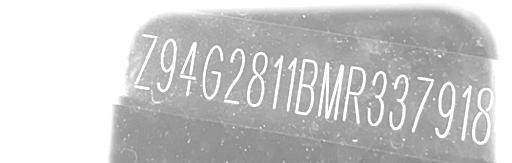letter: (316, 61, 344, 122), (132, 31, 158, 92), (408, 75, 434, 134), (470, 86, 494, 146), (341, 65, 365, 124), (294, 57, 318, 116), (224, 46, 246, 107), (365, 69, 387, 128), (434, 81, 456, 140), (156, 36, 178, 95), (202, 43, 224, 102), (246, 51, 268, 110), (388, 73, 410, 130), (178, 39, 198, 98), (459, 84, 473, 143), (270, 52, 284, 111), (284, 54, 296, 113)
